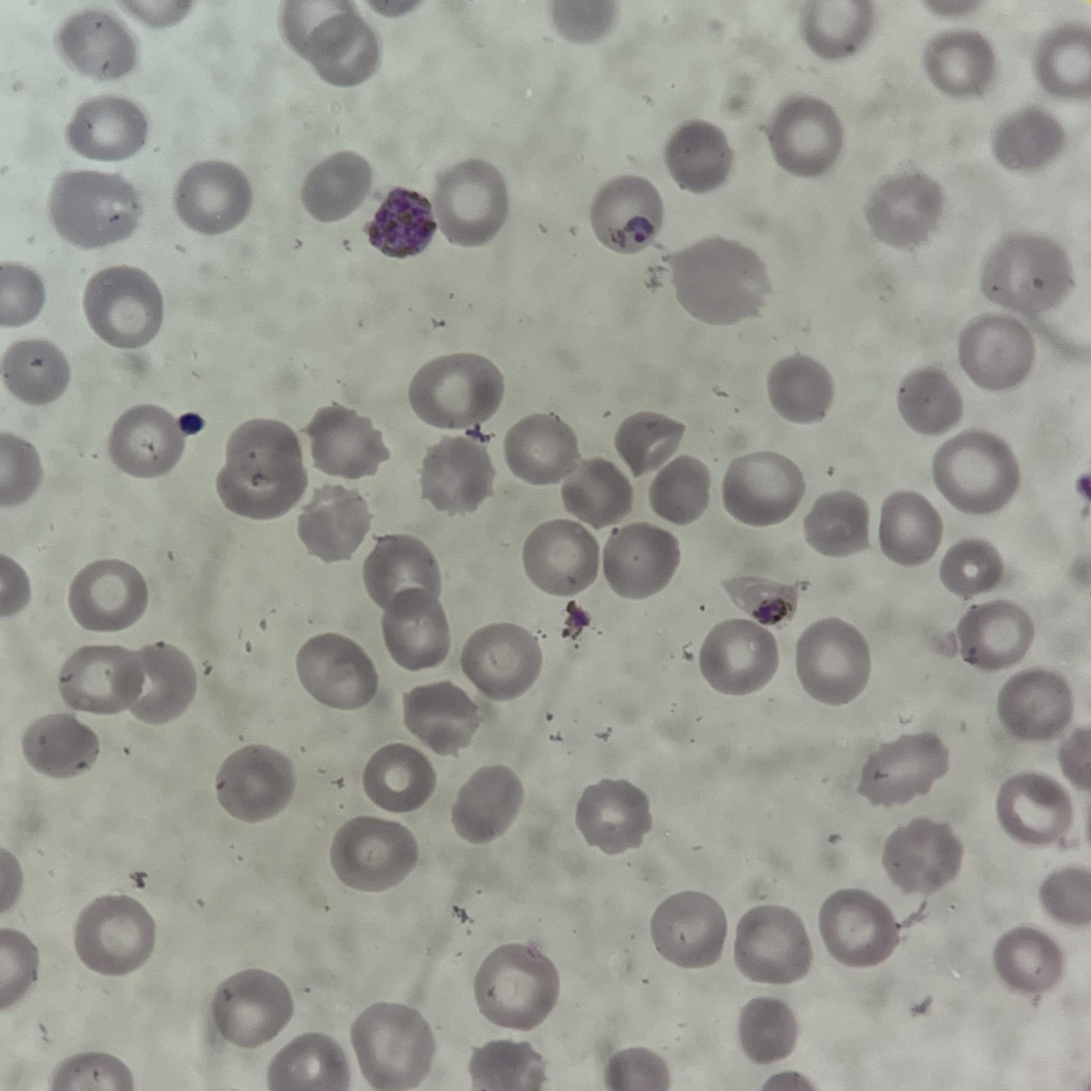Infected: (426, 838, 500, 914), (653, 830, 726, 900), (289, 463, 368, 517)
Uninfected: (317, 765, 427, 856), (782, 571, 876, 672), (712, 1005, 809, 1091), (529, 60, 617, 146), (16, 774, 107, 857), (950, 841, 1042, 923), (71, 577, 157, 661), (654, 1, 740, 85), (932, 113, 1018, 194), (141, 283, 231, 360), (672, 198, 760, 276), (584, 839, 657, 933), (590, 663, 684, 736), (926, 743, 1008, 826), (14, 242, 96, 324), (547, 387, 632, 466), (218, 385, 296, 471), (360, 120, 443, 200), (190, 122, 273, 201), (145, 841, 226, 921), (792, 268, 877, 344), (279, 106, 359, 186), (796, 43, 878, 121), (701, 611, 785, 687), (311, 395, 392, 473), (128, 195, 208, 273), (593, 574, 670, 655), (712, 381, 794, 457), (409, 490, 488, 568), (944, 376, 1032, 446), (287, 565, 369, 640), (436, 234, 515, 311), (942, 459, 1024, 533), (247, 914, 323, 993), (490, 495, 568, 571), (639, 419, 712, 500), (893, 367, 966, 448), (55, 700, 132, 776), (649, 483, 727, 558), (903, 612, 982, 686), (838, 856, 916, 930), (954, 1009, 1034, 1081), (566, 249, 640, 326), (717, 528, 794, 602), (18, 349, 94, 423), (609, 334, 685, 407), (509, 607, 586, 679), (56, 420, 132, 491), (992, 311, 1070, 380), (717, 869, 790, 941), (654, 278, 728, 349), (943, 930, 1025, 994), (404, 612, 479, 680), (458, 561, 529, 632), (255, 666, 325, 738), (357, 898, 426, 971), (26, 93, 97, 163), (25, 917, 98, 985), (147, 524, 214, 596), (127, 654, 195, 724), (96, 994, 167, 1061), (1019, 684, 1087, 753), (219, 533, 287, 600), (741, 1, 821, 57), (290, 25, 353, 93), (380, 566, 442, 634), (544, 1, 623, 52), (217, 1033, 286, 1091), (0, 992, 56, 1062), (87, 493, 152, 553), (1048, 585, 1091, 658), (1043, 763, 1091, 827)
